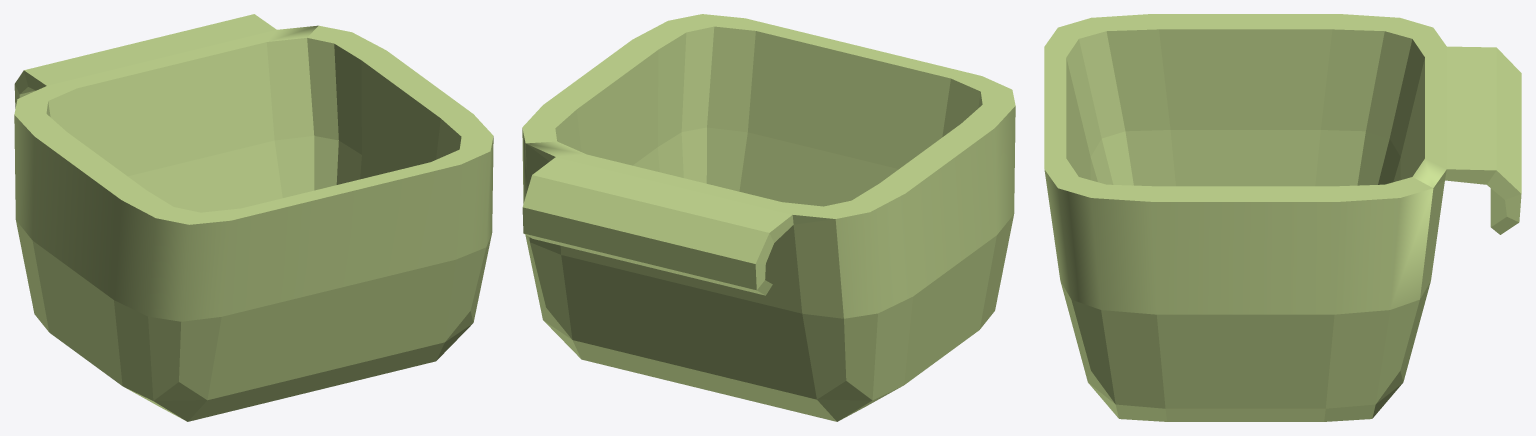
File: PlantPot_35.fbx
3 views of the same model, side by side, from view 1: azimuth 30°, elevation 25°; view 2: azimuth 150°, elevation 25°; view 3: azimuth 270°, elevation 25° (orthographic). The views are drawn at different scales.
Parts seen in each view (by area): view 1: PlantPot_35; view 2: PlantPot_35; view 3: PlantPot_35.
Part boxes in pixels (bbox=[...]): PlantPot_35: bbox=[14, 14, 493, 421]; PlantPot_35: bbox=[522, 14, 1015, 421]; PlantPot_35: bbox=[1044, 14, 1521, 421].
Size of the model in its own units: 36.2 by 21.43 by 37.85.
